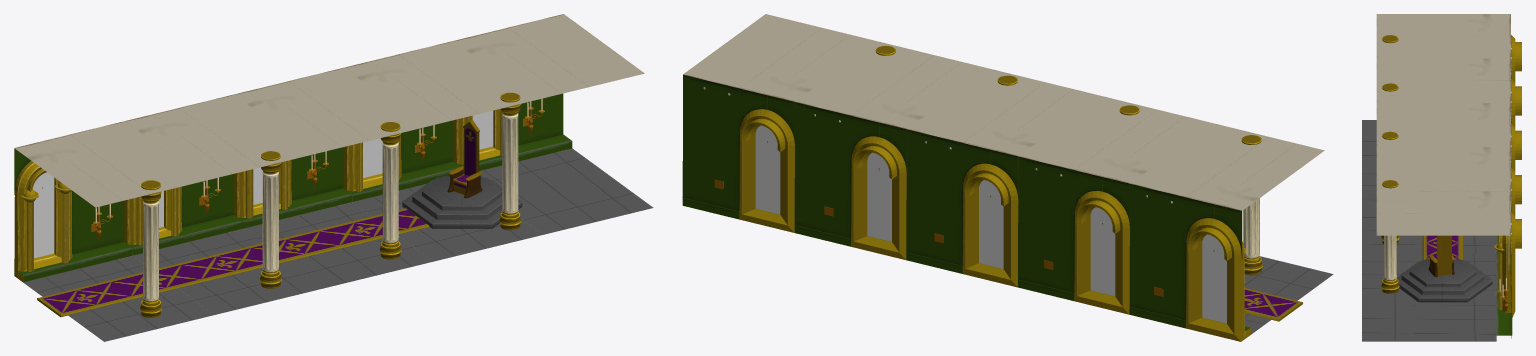
The model's file is castle_scene2.fbx.
The picture shows the model from 3 angles, left to right: view 1: azimuth 30°, elevation 25°; view 2: azimuth 150°, elevation 25°; view 3: azimuth 270°, elevation 25°; orthographic projection. The views are drawn at different scales.
Parts seen in each view (by area): view 1: wall_windows, Architectural_Pillar, Carpet, steps, Candlestick, ThroneSeat, Throne Back; view 2: wall_windows, Architectural_Pillar, Carpet; view 3: wall_windows, steps, Architectural_Pillar, ThroneSeat, Carpet, Throne Back, Candlestick.
Boxes of the visible parts, left/top/right/bottom form: wall_windows: left=14, top=14, right=653, bottom=341; Architectural_Pillar: left=140, top=92, right=521, bottom=317; Carpet: left=37, top=208, right=429, bottom=317; steps: left=402, top=176, right=522, bottom=228; Candlestick: left=91, top=98, right=544, bottom=239; ThroneSeat: left=463, top=120, right=479, bottom=175; Throne Back: left=447, top=166, right=482, bottom=198; wall_windows: left=682, top=14, right=1333, bottom=341; Architectural_Pillar: left=875, top=46, right=1262, bottom=275; Carpet: left=1244, top=288, right=1302, bottom=321; wall_windows: left=1362, top=14, right=1521, bottom=341; steps: left=1397, top=259, right=1492, bottom=302; Architectural_Pillar: left=1381, top=35, right=1399, bottom=293; ThroneSeat: left=1437, top=235, right=1451, bottom=276; Carpet: left=1422, top=235, right=1462, bottom=259; Throne Back: left=1428, top=254, right=1454, bottom=276; Candlestick: left=1497, top=278, right=1511, bottom=311.
Bounding box in the file's own units: 12355 × 2771 × 3715.
